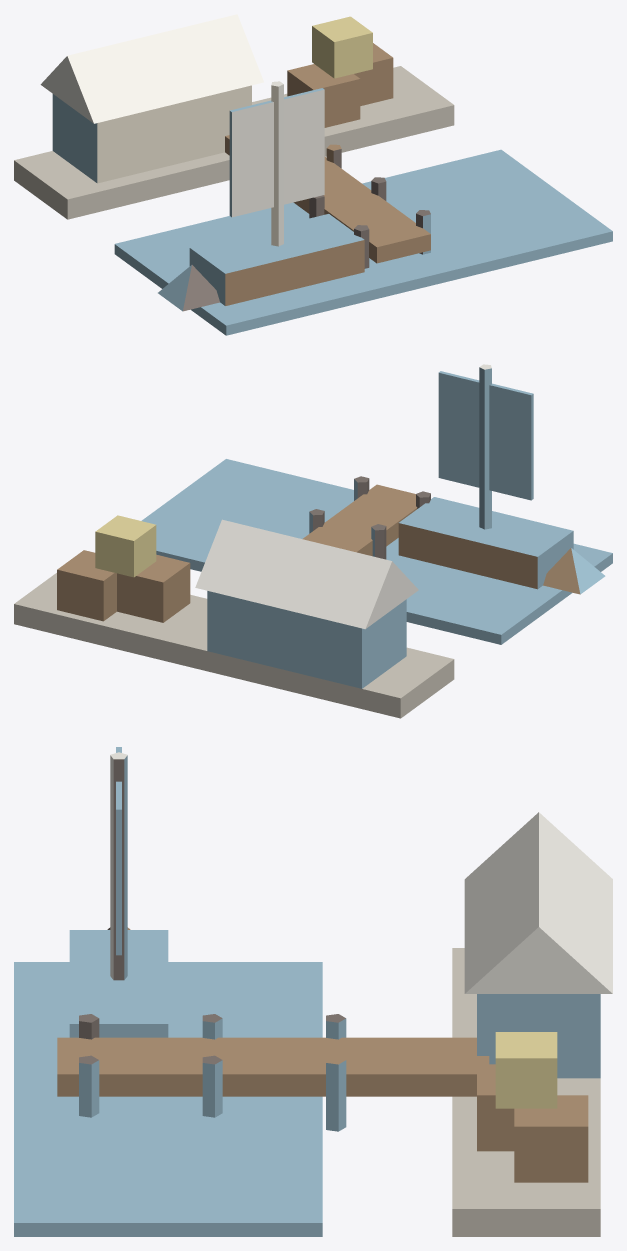
File: port.glb
3 renders of one model, top to bottom at view 1: azimuth 30°, elevation 25°; view 2: azimuth 150°, elevation 25°; view 3: azimuth 270°, elevation 25°, orthographic. The views are drawn at different scales.
Parts seen in each view (by area): view 1: port; view 2: port; view 3: port.
Part boxes in pixels (<box>): port: <box>14,14,612,335</box>; port: <box>14,364,612,718</box>; port: <box>14,747,612,1236</box>.
Size of the model in its own units: 1 by 0.4778 by 0.9268.
